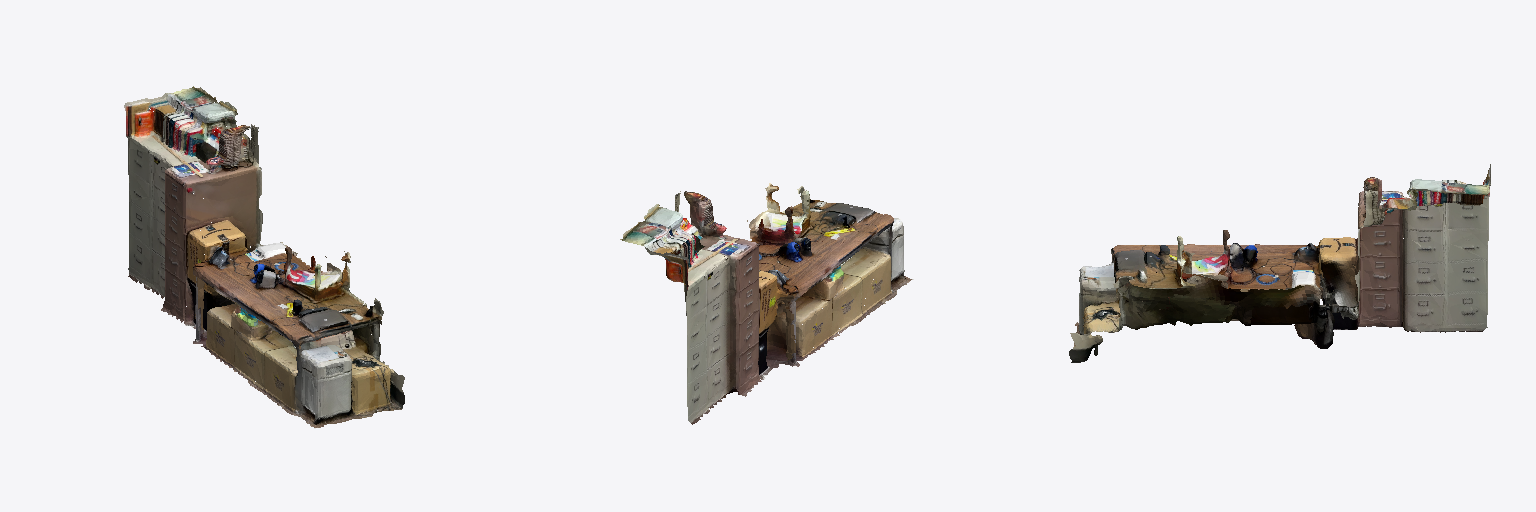
3 renders of one model, left to right at view 1: azimuth 30°, elevation 25°; view 2: azimuth 150°, elevation 25°; view 3: azimuth 270°, elevation 25°, orthographic.
Parts seen in each view (by area): view 1: poly; view 2: poly; view 3: poly.
Part boxes in pixels (left/top/right/bottom): poly: left=124, top=86, right=404, bottom=428; poly: left=620, top=183, right=913, bottom=424; poly: left=1069, top=164, right=1490, bottom=362.
Bounding box in the file's own units: 0.9586 × 1.69 × 3.65.
1 materials, 1 textured.